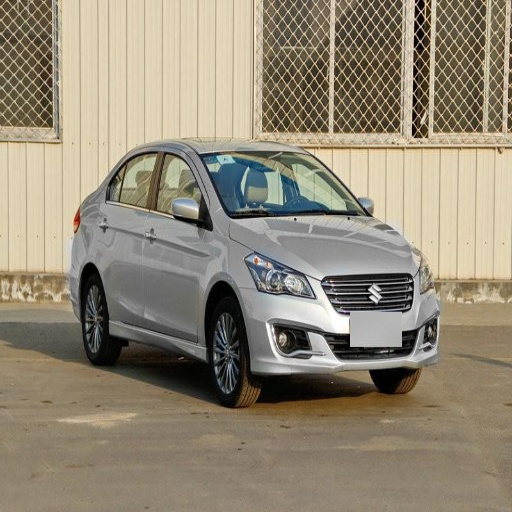back_right_door: (95, 147, 160, 327)
front_bumper: (241, 273, 438, 371)
front_right_door: (143, 148, 206, 340)
front_right_light: (246, 253, 314, 297)
hood: (232, 216, 422, 277)
